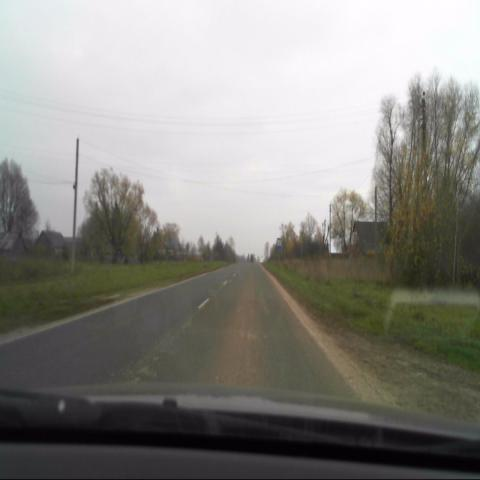7_6: (276, 235, 282, 250)
